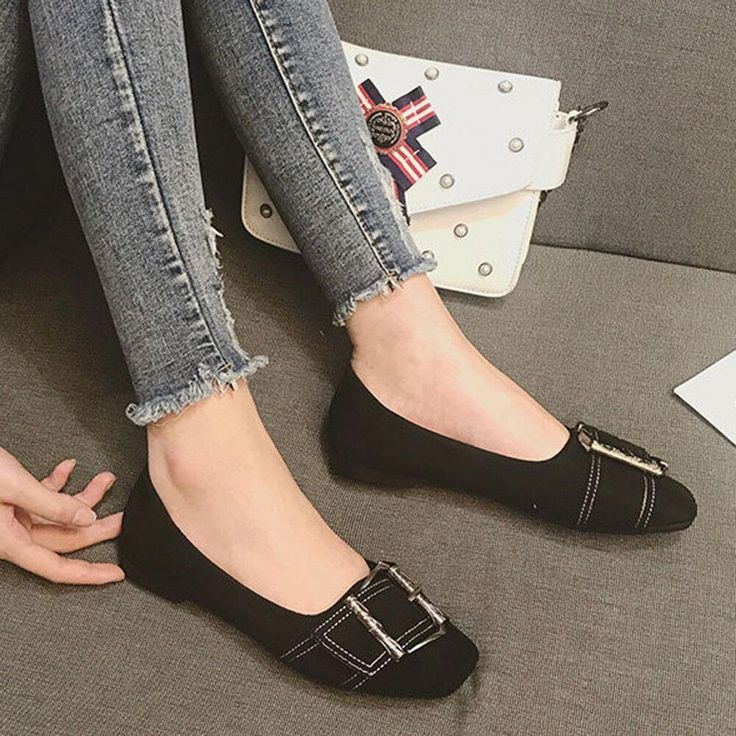gamuza: (117, 363, 698, 701)
